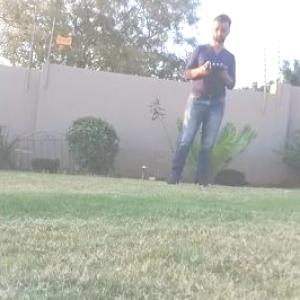follow: (159, 3, 239, 192)
